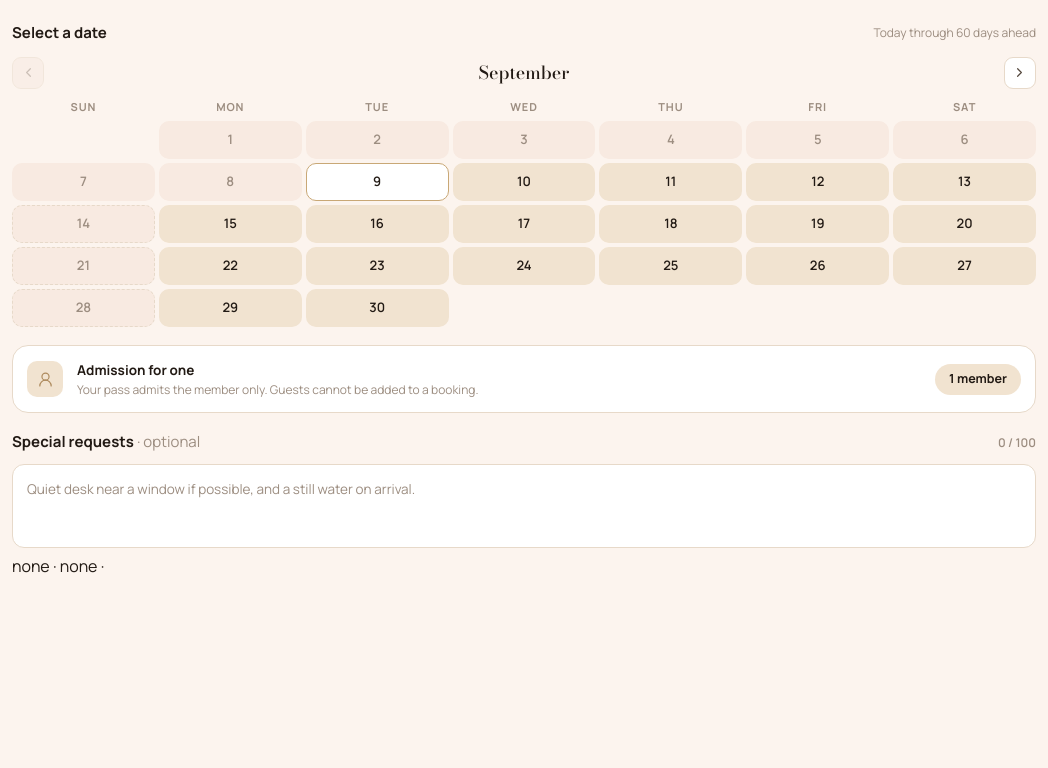
selección de hora tras elegir fecha › elegir un slot actualiza el borrador de reserva
The width and height of the screenshot is (1048, 768).
Click the button "10". click: point(524, 182)
box: [453,163,596,201]
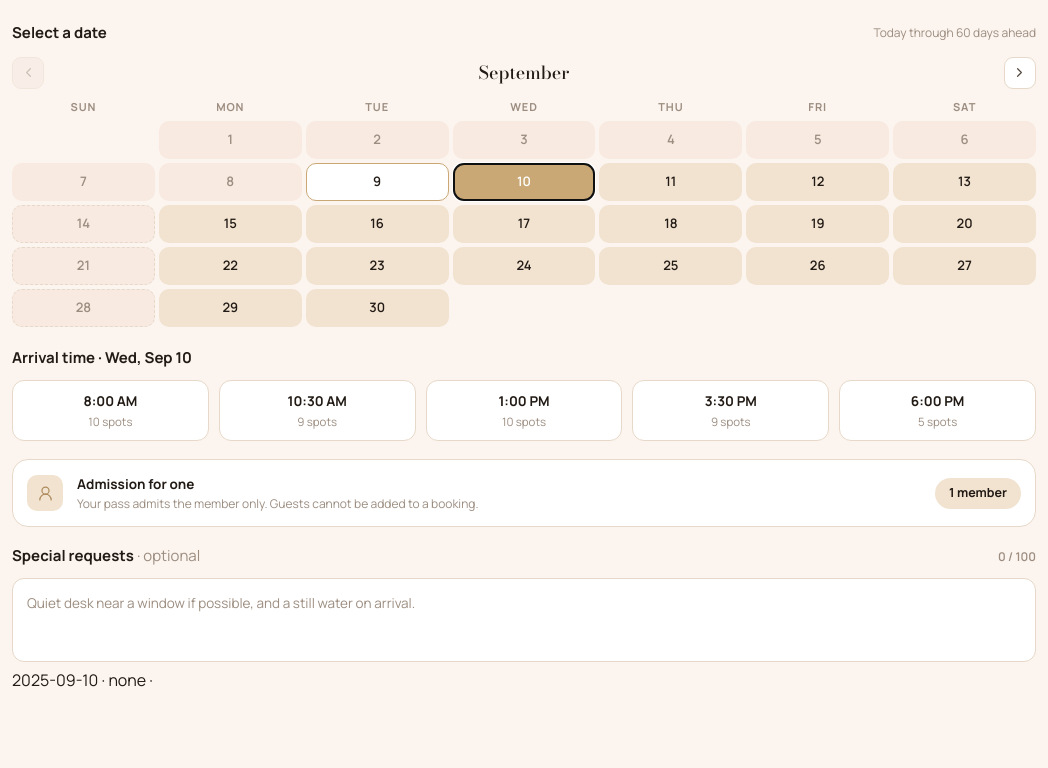
Click the button "8:00 AM 10 spots". click: point(110, 410)
box: [12,380,209,441]
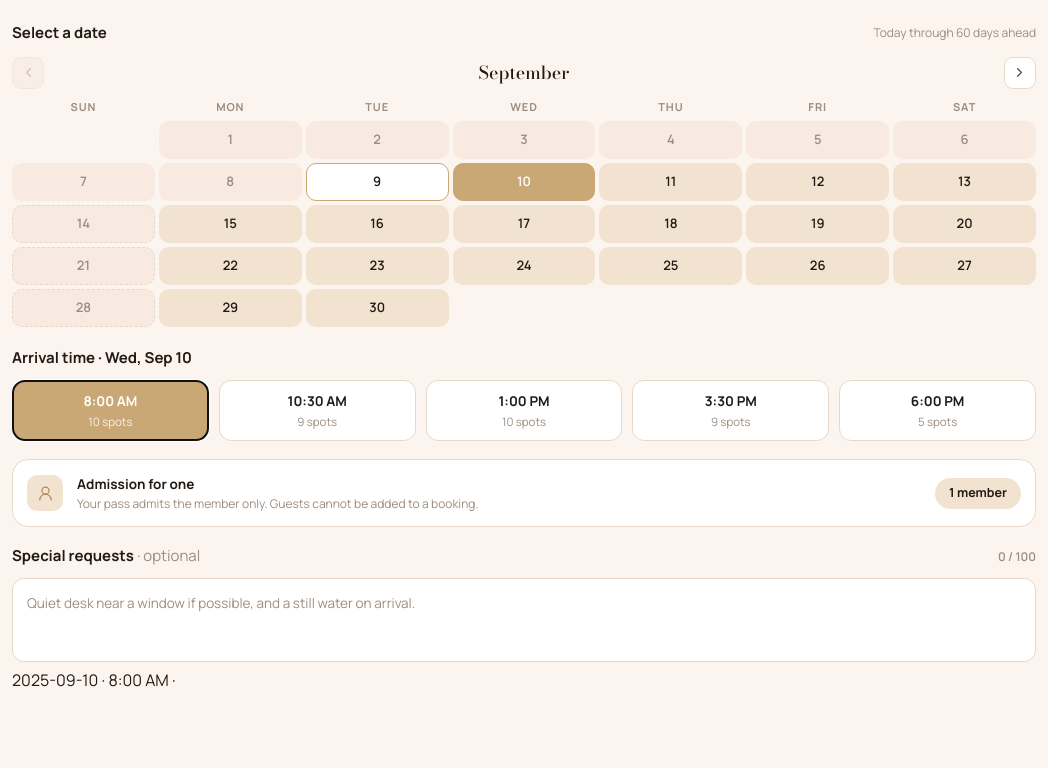
Expected: the text with test id "draft" no longer shows "· none ·"
